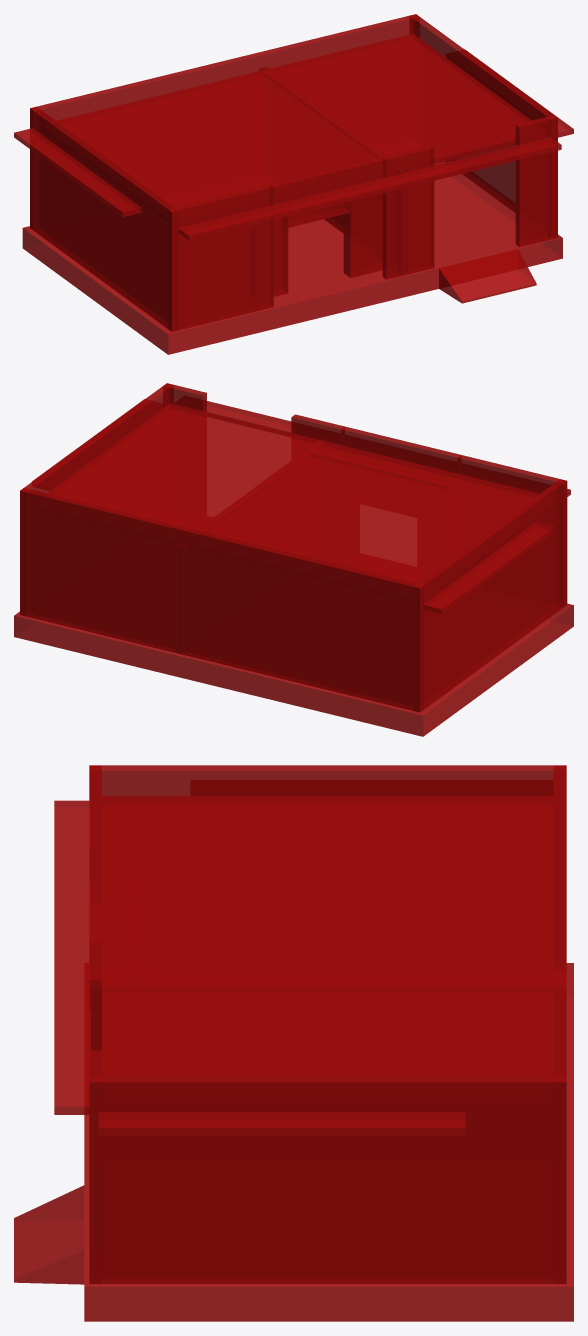
File: SM_Bld_GasStation_01_Collision.fbx
The picture shows the model from 3 angles, top to bottom: view 1: azimuth 30°, elevation 25°; view 2: azimuth 150°, elevation 25°; view 3: azimuth 270°, elevation 25°; orthographic projection. The views are drawn at different scales.
Parts seen in each view (by area): view 1: SM_Bld_GasStation_01_Collision; view 2: SM_Bld_GasStation_01_Collision; view 3: SM_Bld_GasStation_01_Collision.
Part boxes in pixels (x1,y1,x2,y2): SM_Bld_GasStation_01_Collision: (14,14,573,354); SM_Bld_GasStation_01_Collision: (14,383,573,736); SM_Bld_GasStation_01_Collision: (14,765,573,1321).
Bounding box in the file's own units: 1587 × 503 × 1080.
